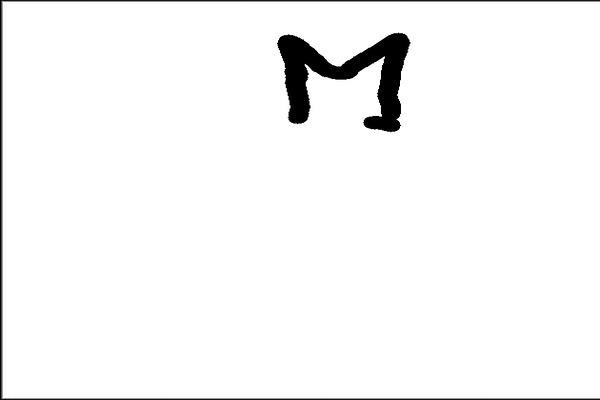M: (274, 24, 408, 131)
